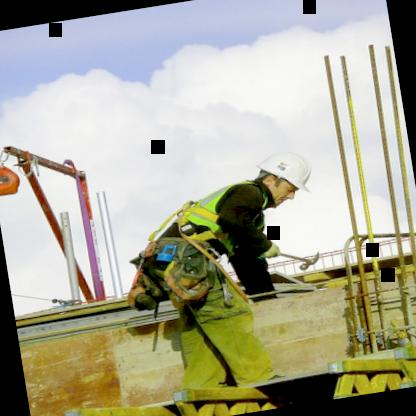helmet: (230, 132, 322, 214)
